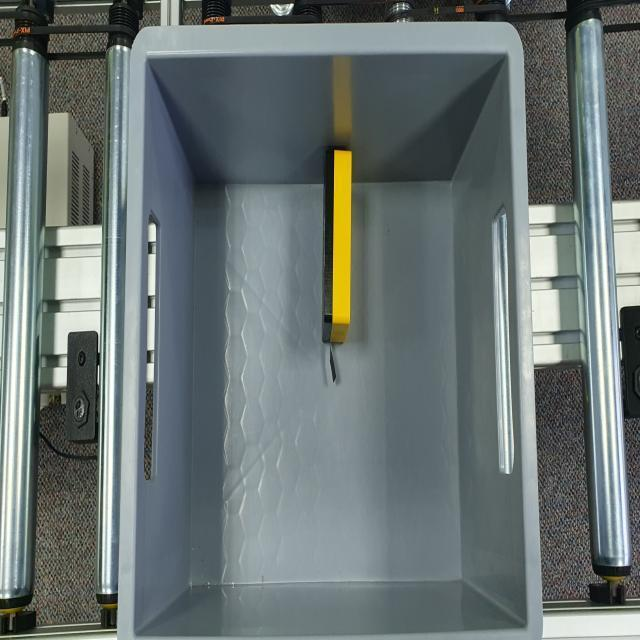box: (322, 142, 355, 331)
